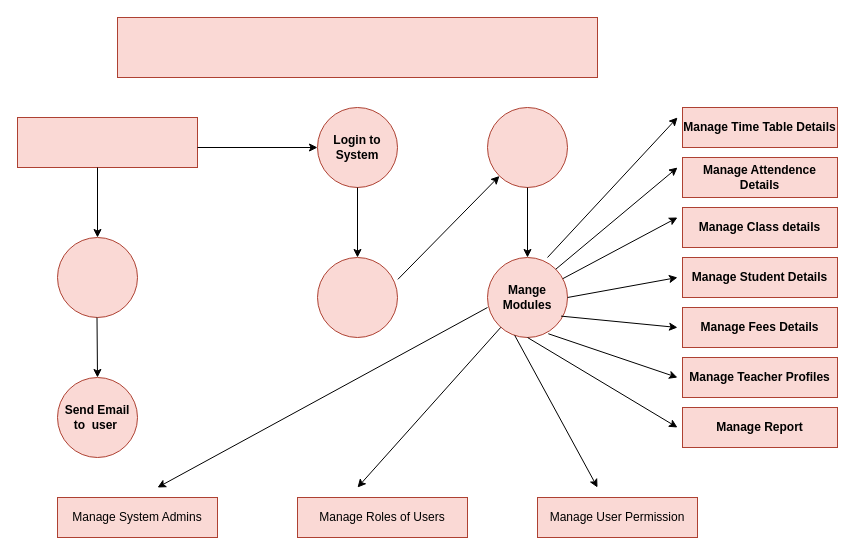
This 855x555 diagram has some shape labels left out. Here are the shapes that lost their labels. From the top down, the centre of each, then its label:
At point (357, 47): "Student Information System".
At point (107, 142): "Admin".
At point (527, 147): "Check role of access".
At point (97, 277): "Forget Password".
At point (357, 297): "Check Credentials".
